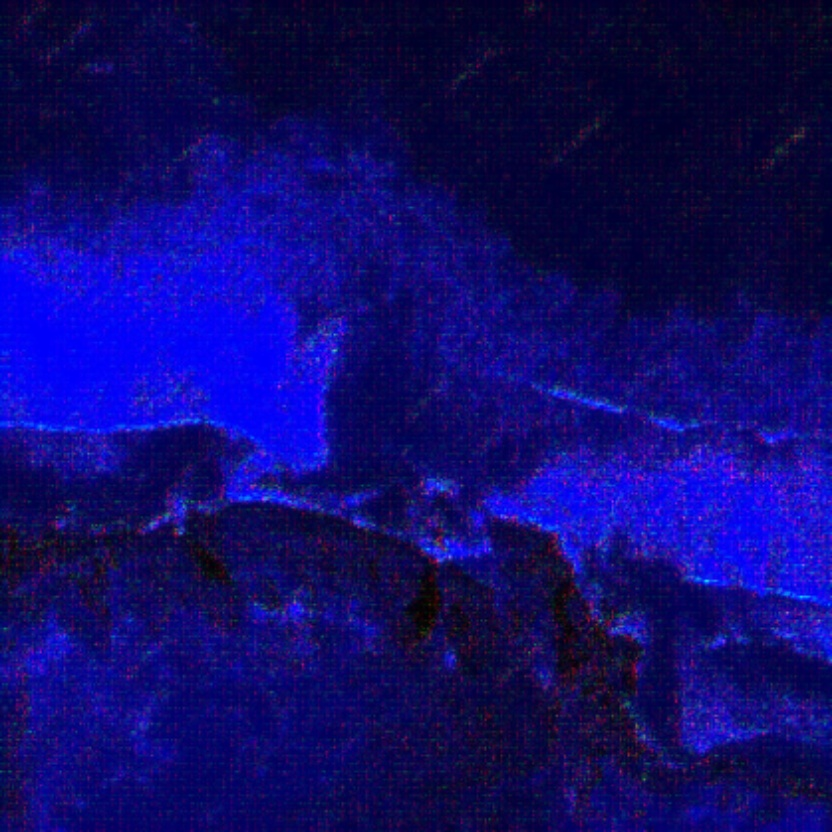rip_current: (156, 47, 604, 501)
